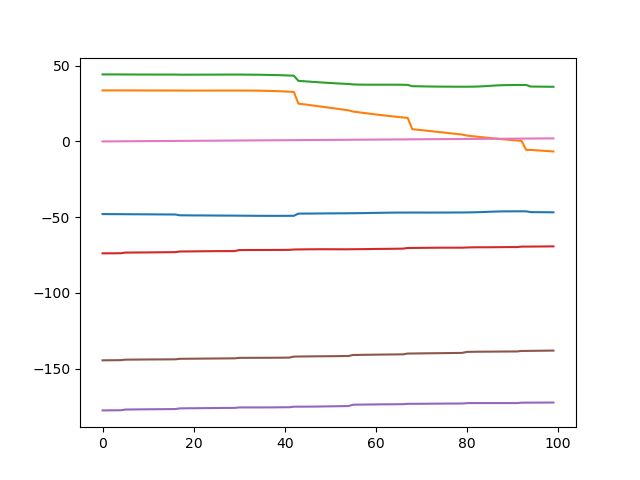Too_Slow: (4, 1, 640, 480)
